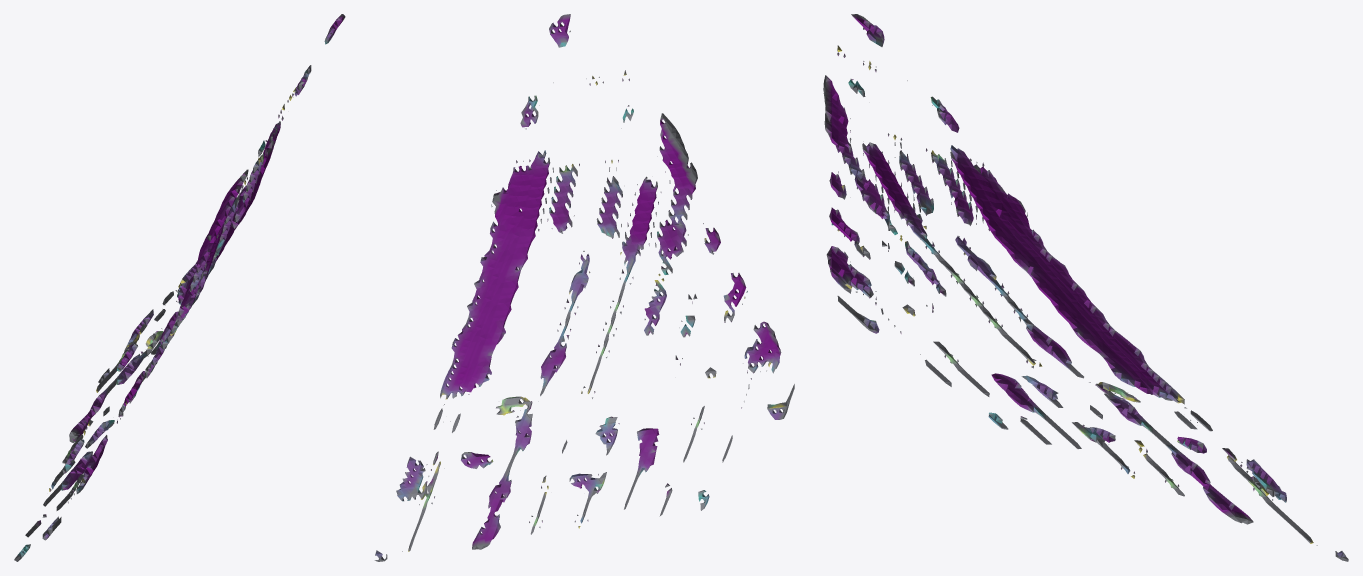
File: crop1121.glb
The picture shows the model from 3 angles, left to right: view 1: azimuth 30°, elevation 25°; view 2: azimuth 150°, elevation 25°; view 3: azimuth 270°, elevation 25°; orthographic projection. The views are drawn at different scales.
Visible parts, largest first — view 1: geometry_0; view 2: geometry_0; view 3: geometry_0.
Part boxes in pixels (<box>): geometry_0: <box>14,14,345,561</box>; geometry_0: <box>374,14,794,561</box>; geometry_0: <box>823,14,1348,561</box>.
Bounding box in the file's own units: 453 × 766 × 667.
